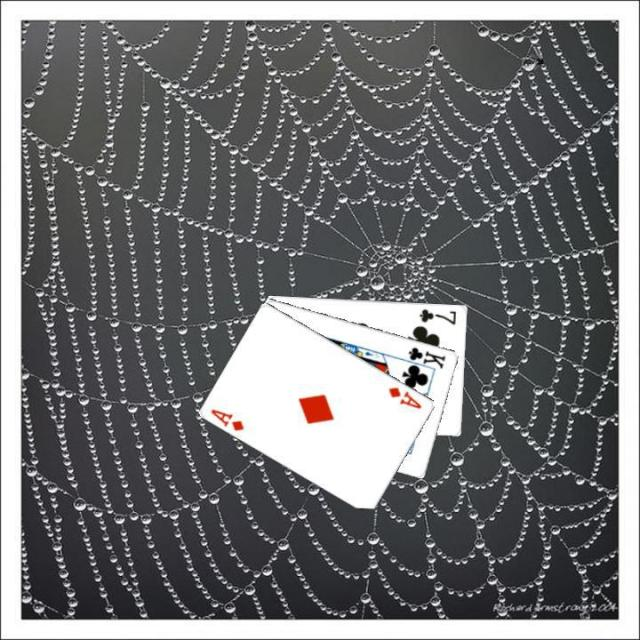7C: (416, 305, 459, 326)
AD: (385, 382, 424, 411), (207, 404, 246, 433)
KC: (399, 343, 447, 373)
